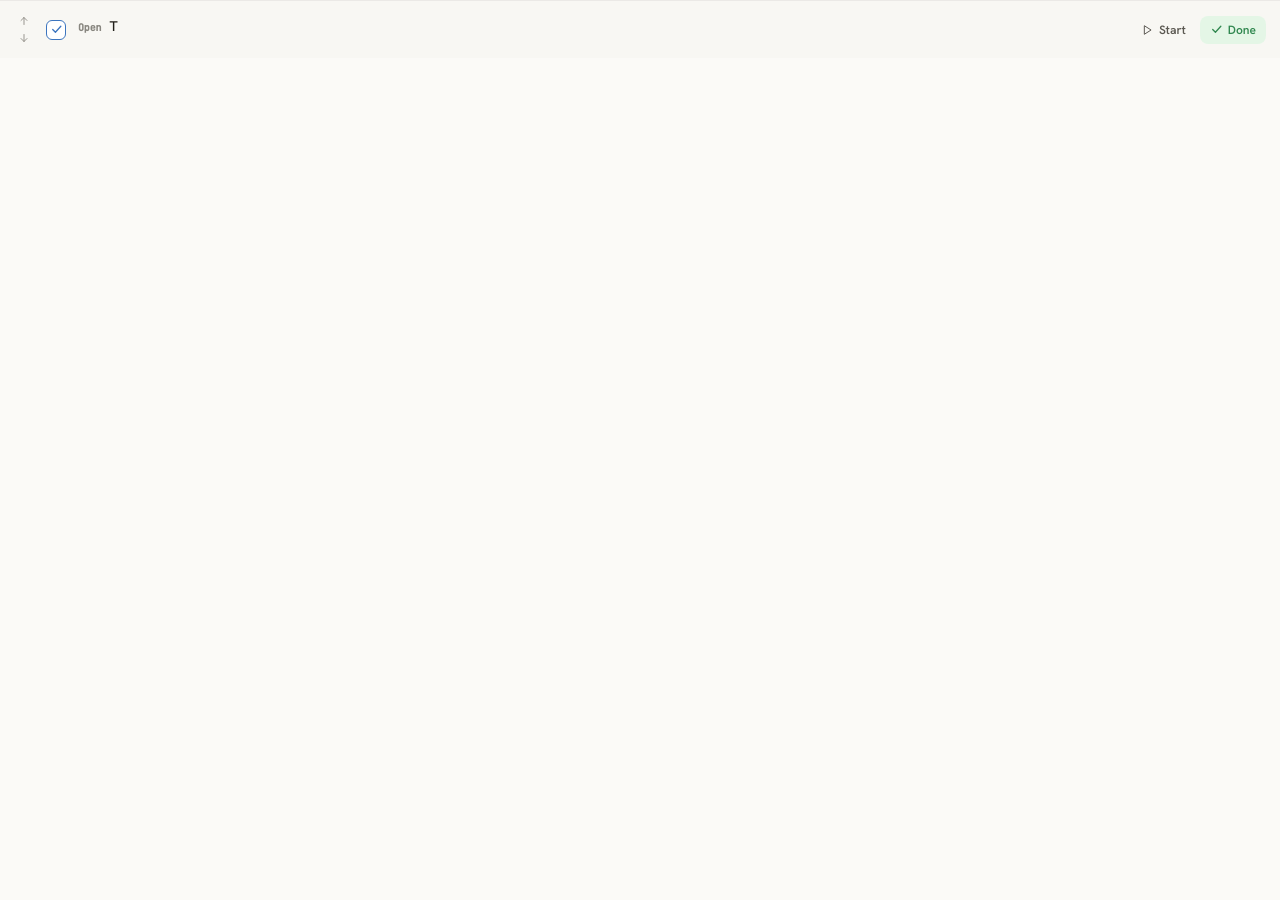
Test: ItemRow › clicking checkbox on open item opens CompletionPopover
Click the button named "Complete item" at {"x": 56, "y": 30}, box [46,20,66,40]
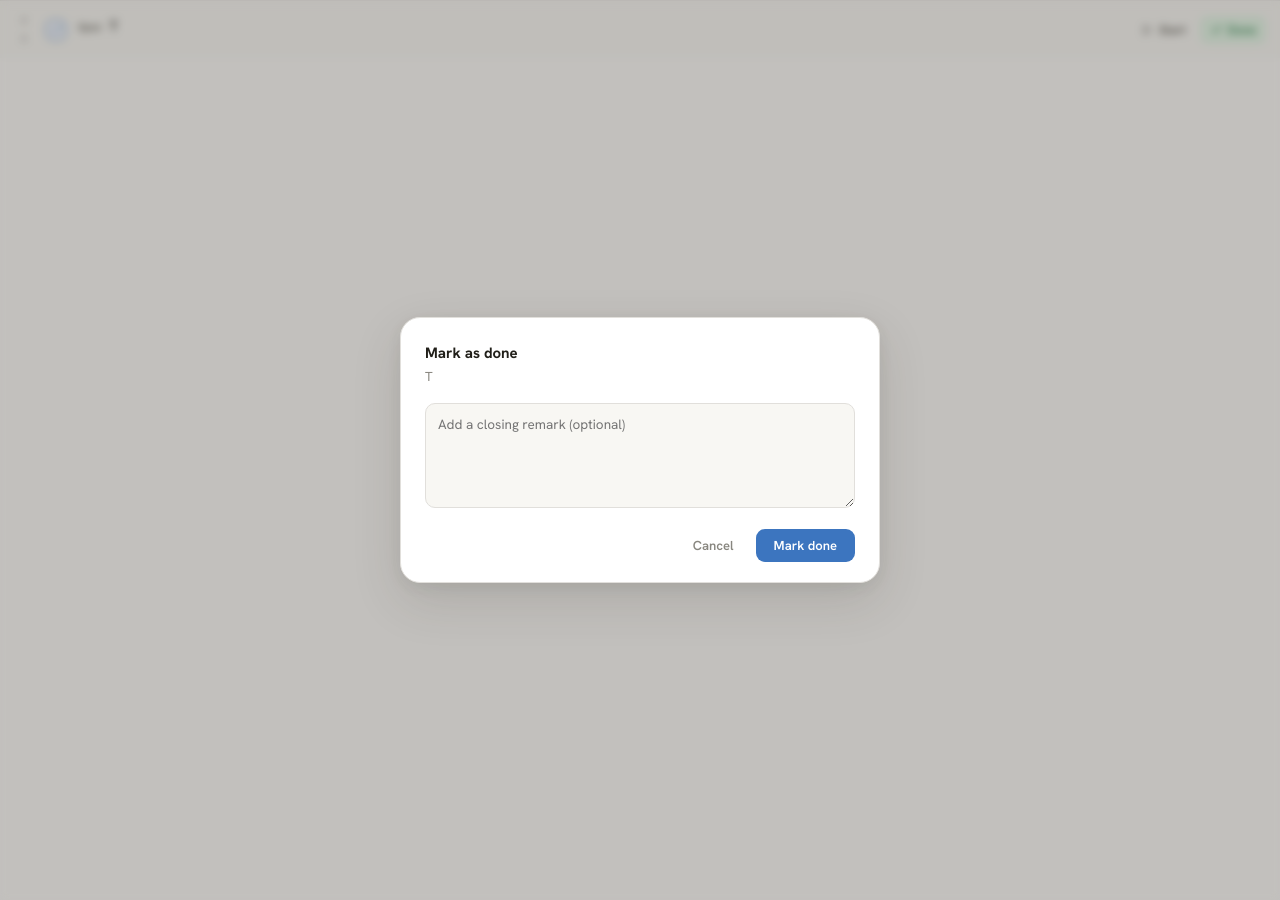
Now the dialog named "Complete item" is shown, box [400,317,880,583]
